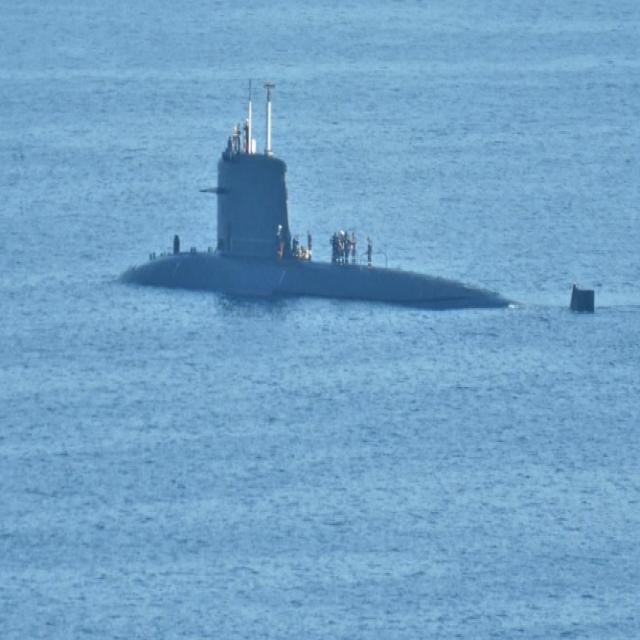submarine: (104, 153, 593, 315)
